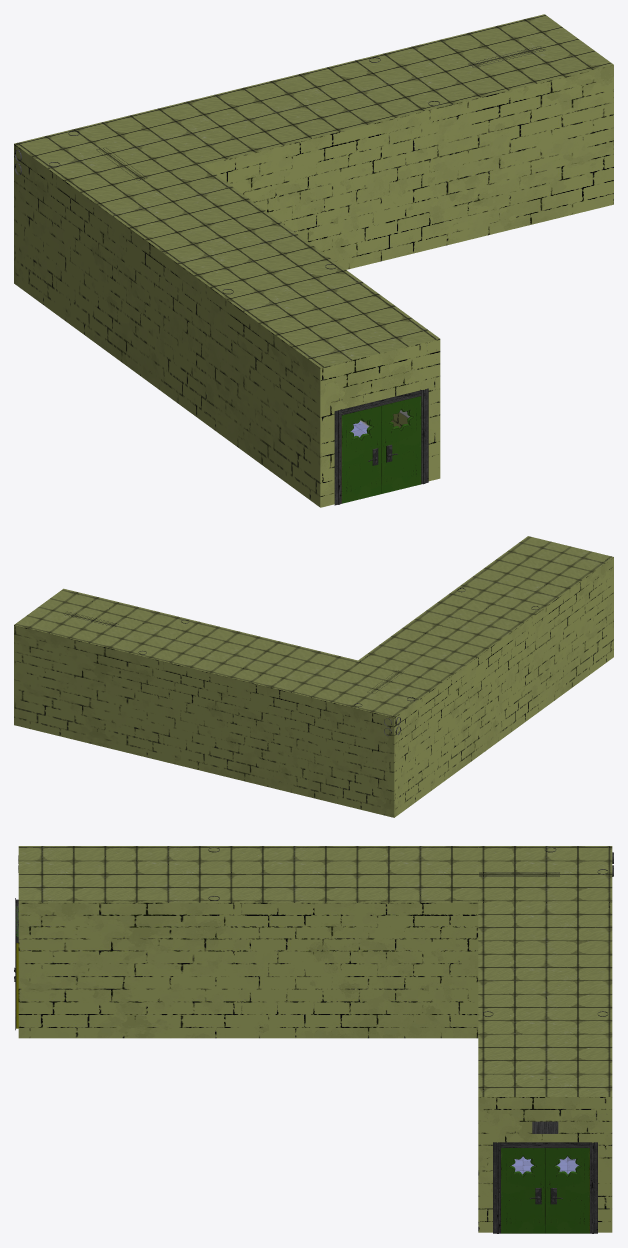
The model's file is L_Level.fbx.
3 views of the same model, one above another, from view 1: azimuth 30°, elevation 25°; view 2: azimuth 150°, elevation 25°; view 3: azimuth 270°, elevation 25° (orthographic). The views are drawn at different scales.
Visible parts, largest first — view 1: Wall, Floor2, Right, Left, Frame; view 2: Wall, Floor2; view 3: Wall, Floor2, Left, Right, Frame.
Part boxes in pixels (<box>): Wall: <box>14,65,613,507</box>; Floor2: <box>14,14,613,367</box>; Right: <box>341,405,381,503</box>; Left: <box>381,396,421,493</box>; Frame: <box>334,388,428,505</box>; Wall: <box>14,557,613,817</box>; Floor2: <box>14,536,613,717</box>; Wall: <box>18,902,612,1232</box>; Floor2: <box>18,846,612,1096</box>; Left: <box>545,1148,589,1233</box>; Right: <box>501,1148,545,1233</box>; Frame: <box>493,1142,597,1233</box>.
Size of the model in its own units: 41.61 by 10.41 by 41.61.
